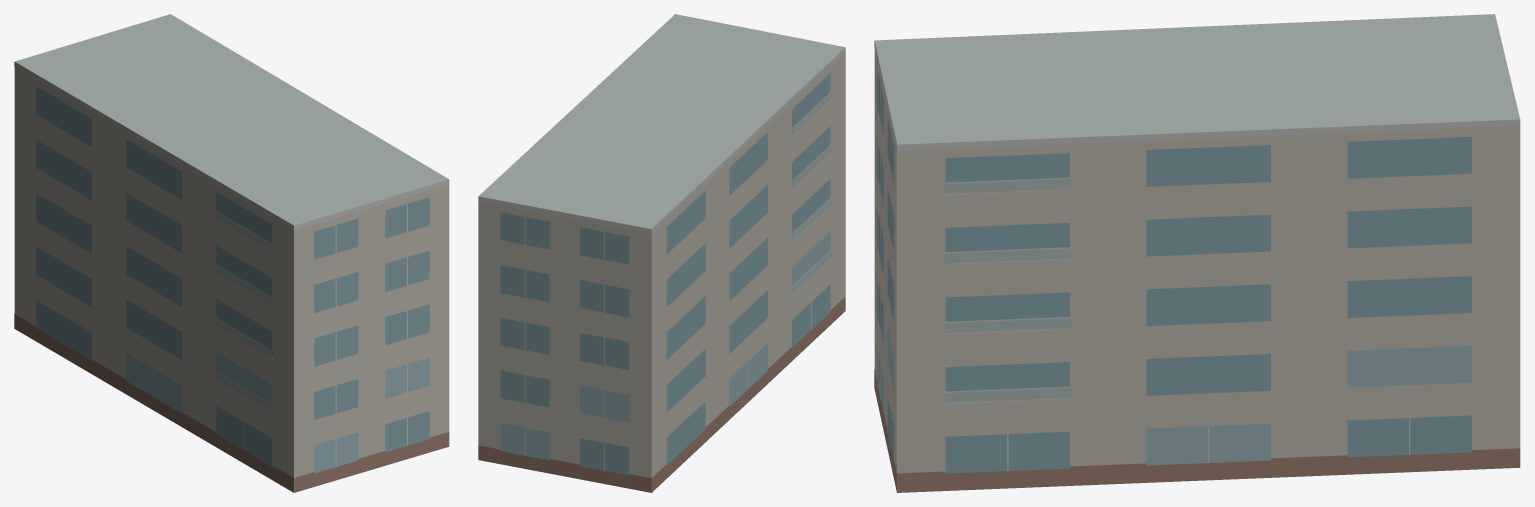
The model's file is survey-upis-32915871.glb.
3 views of the same model, side by side, from view 1: azimuth 30°, elevation 25°; view 2: azimuth 150°, elevation 25°; view 3: azimuth 270°, elevation 25° (orthographic). The views are drawn at different scales.
Parts seen in each view (by area): view 1: survey-upis-32915871.tmp; view 2: survey-upis-32915871.tmp; view 3: survey-upis-32915871.tmp.
Boxes of the visible parts, x1,y1,x2,y2 form: survey-upis-32915871.tmp: [14, 14, 449, 492]; survey-upis-32915871.tmp: [478, 14, 845, 492]; survey-upis-32915871.tmp: [874, 14, 1520, 492].
Bounding box in the file's own units: 10.55 × 13.1 × 22.03.
